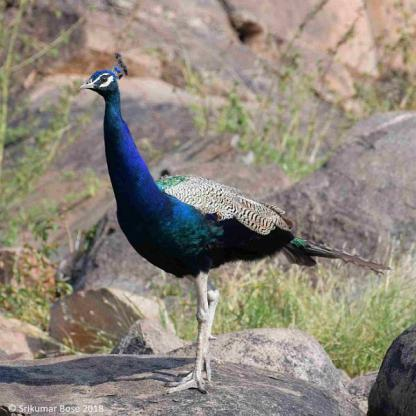Burung: (76, 52, 390, 393)
